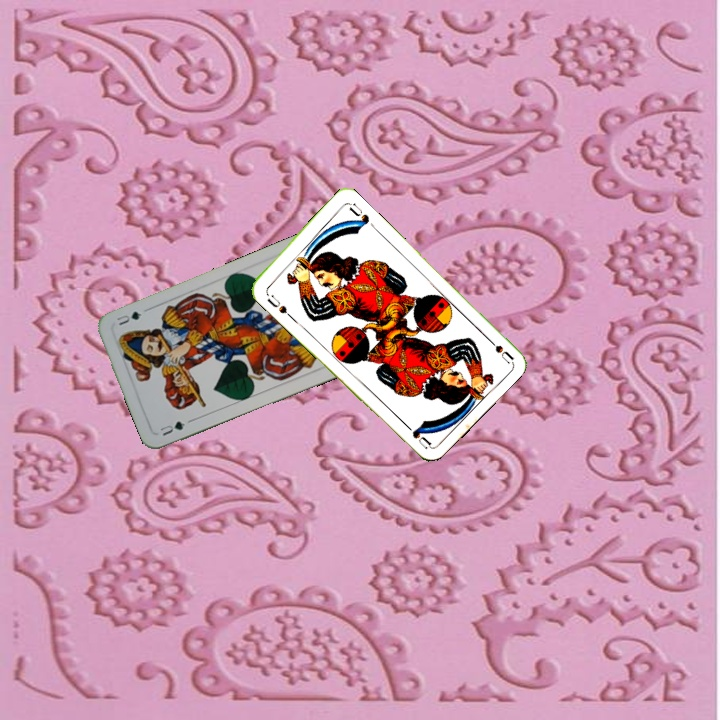GU: (156, 417, 188, 439)
SU: (481, 332, 516, 365), (262, 287, 294, 320)
